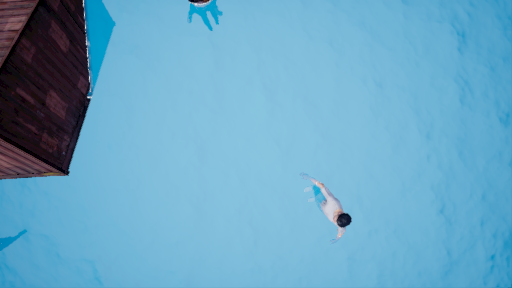person: (302, 173, 356, 240)
